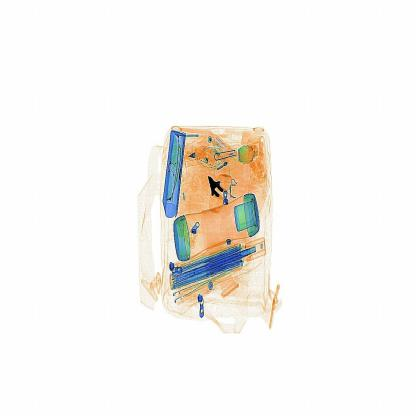gun: (202, 169, 238, 217)
